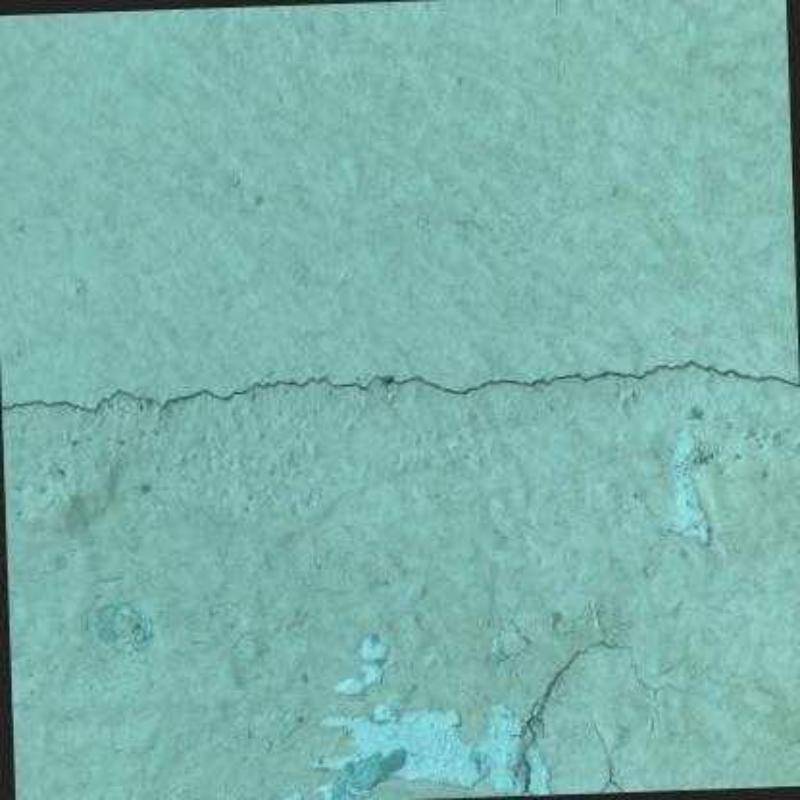crack: (2, 361, 800, 412), (515, 640, 671, 792), (600, 765, 625, 794)
